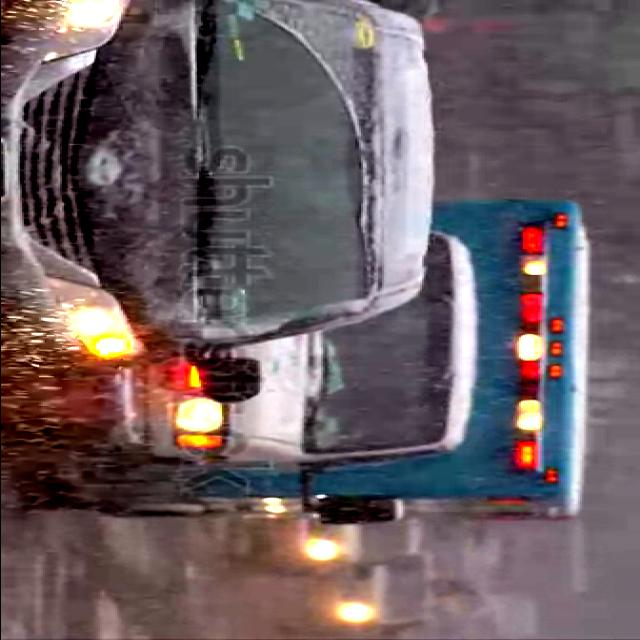ambulance: (19, 200, 592, 522)
